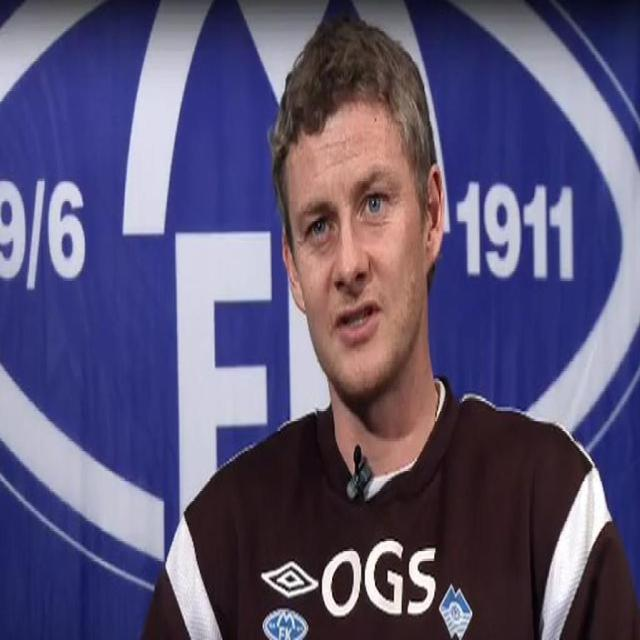Face: (280, 107, 438, 398)
